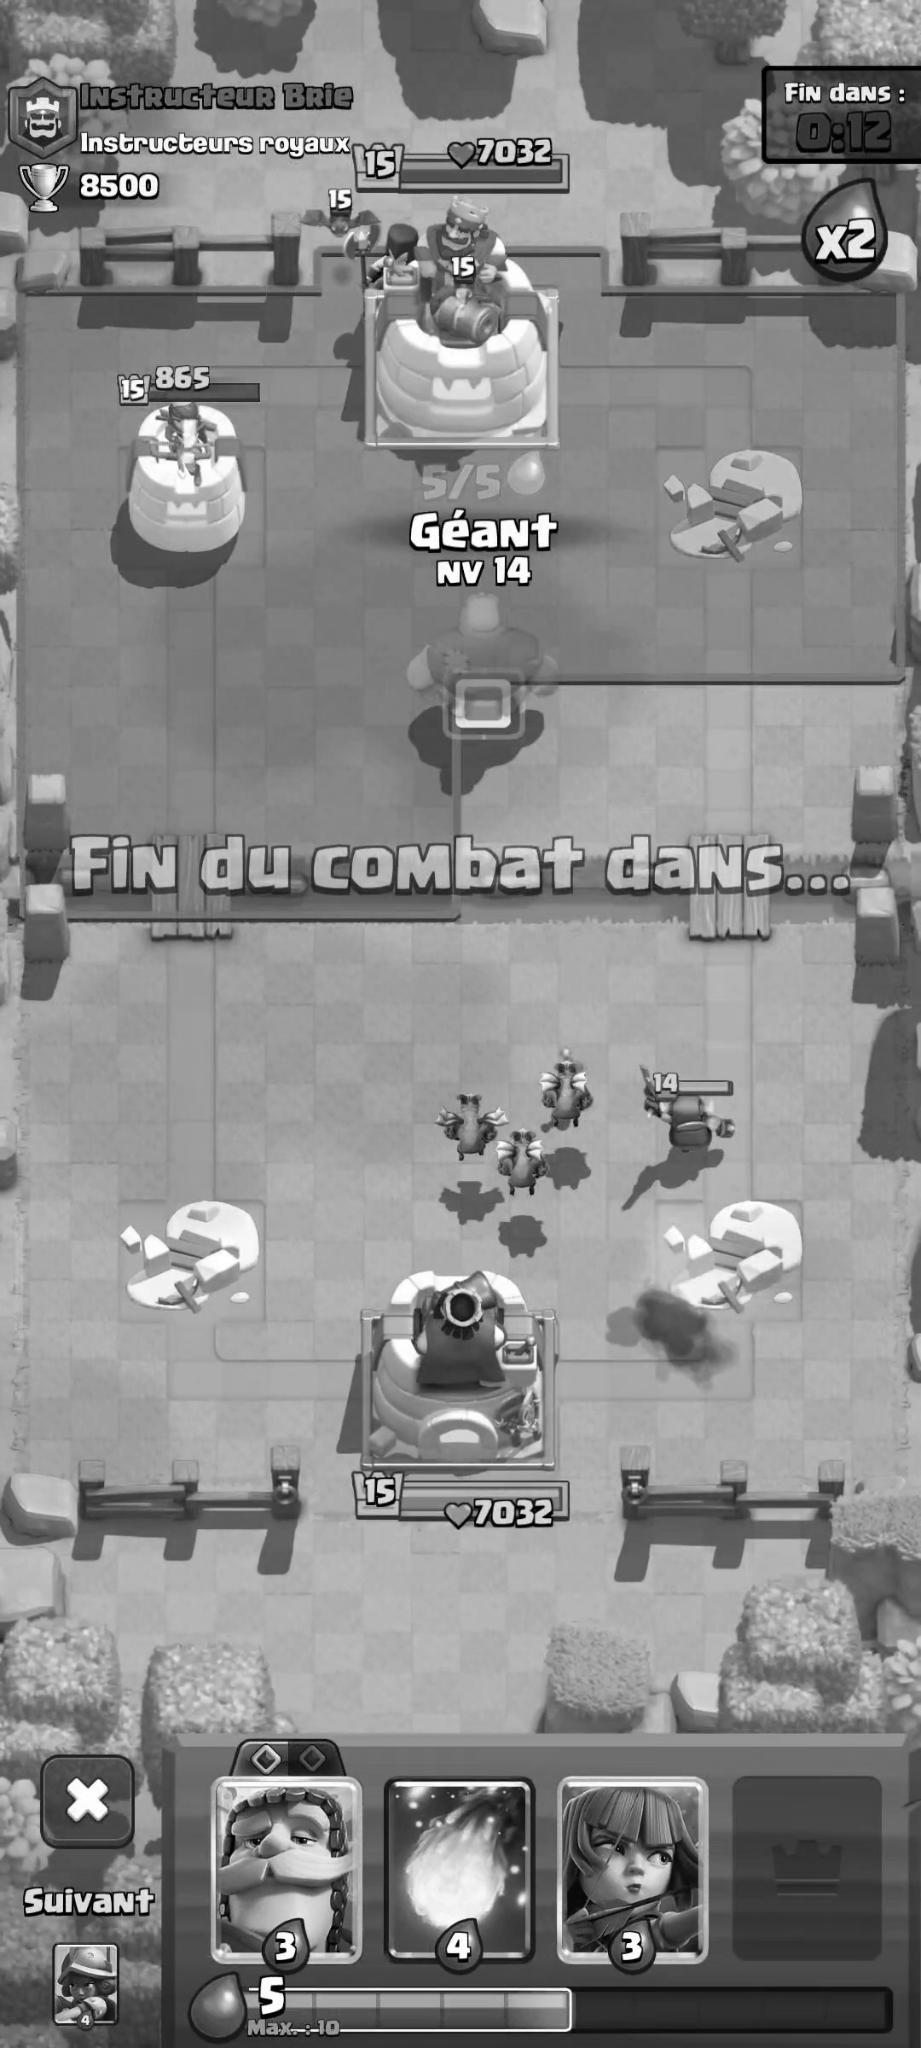bat: (410, 259, 515, 313), (293, 185, 370, 242)
gargouille: (439, 1093, 502, 1164), (542, 1054, 592, 1136), (496, 1128, 545, 1202)
mini_PEKKA: (639, 1067, 734, 1162)
